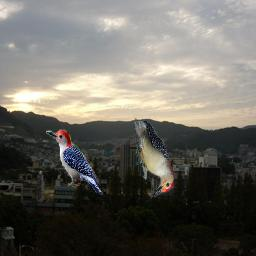Woodpecker: (47, 129, 104, 195), (134, 121, 174, 197)
